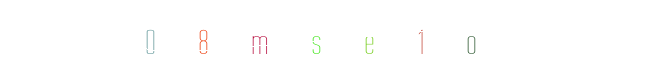0: (127, 0, 207, 80)
1: (303, 0, 383, 80)
8: (197, 0, 277, 80)
E: (292, 0, 372, 80)
M: (267, 0, 347, 80)
O: (431, 0, 511, 80)
S: (268, 0, 348, 80)
